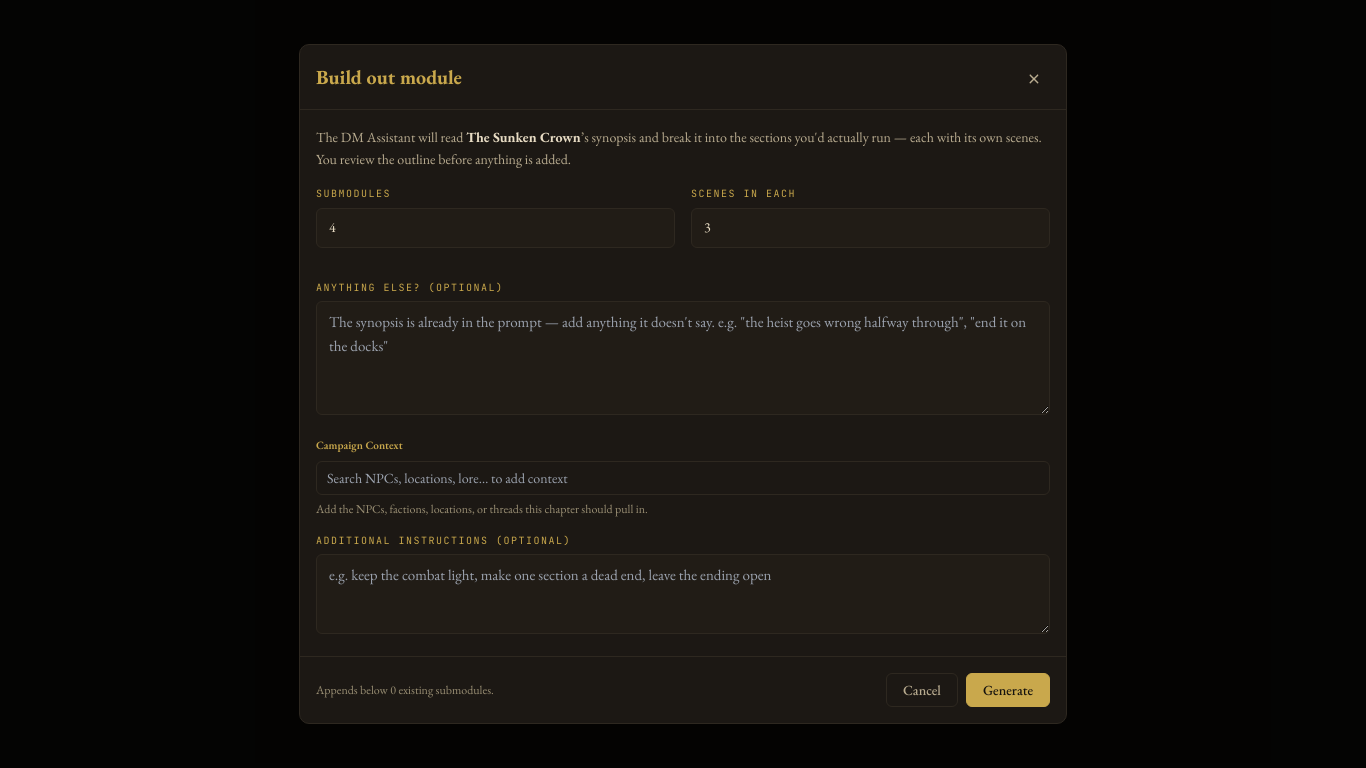
it: GenerateModuleStructureModal › disables saving when everything is unchecked
Step 1. Click the button "Generate" → (1008, 690), box [966,673,1050,707]
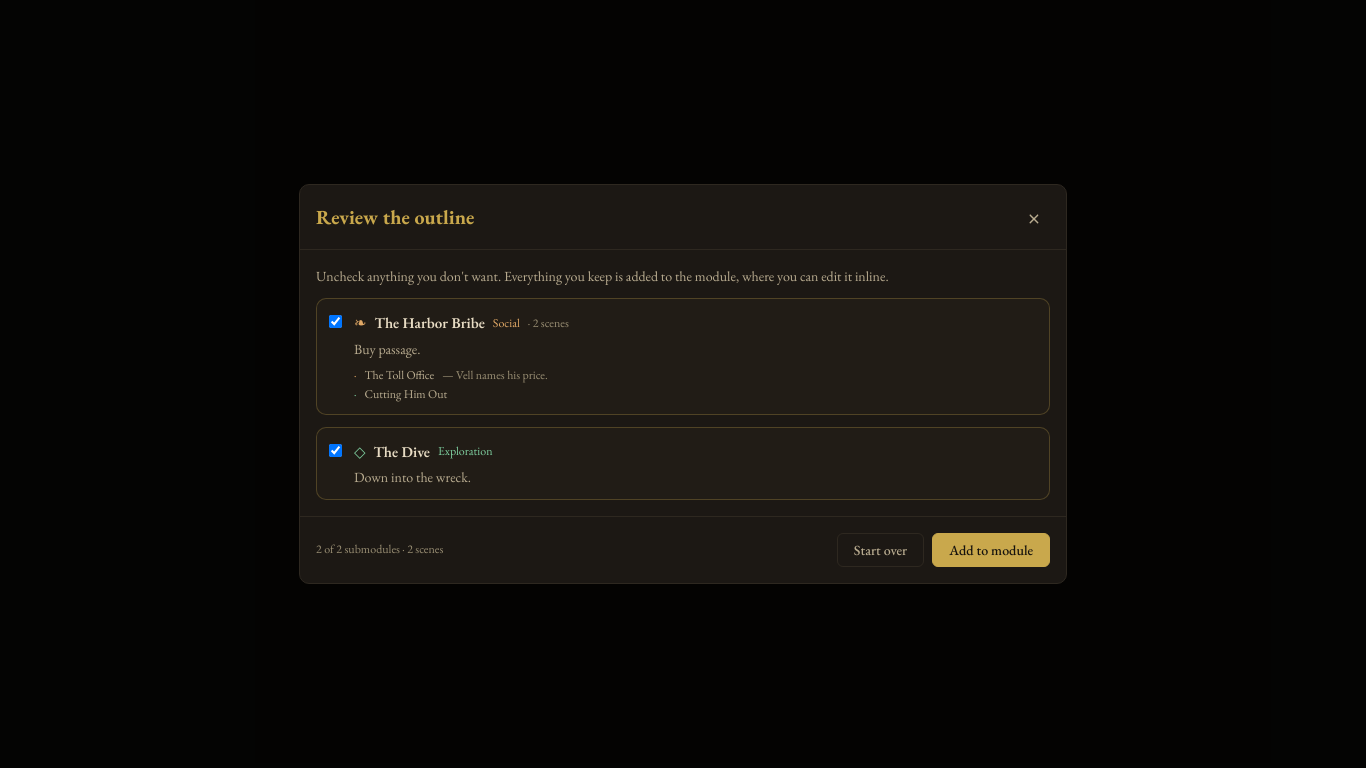
Expected: the text "The Harbor Bribe" is shown, [375,311,485,335]
Step 2. Click the 1st checkbox → (336, 322), box [329,315,342,328]
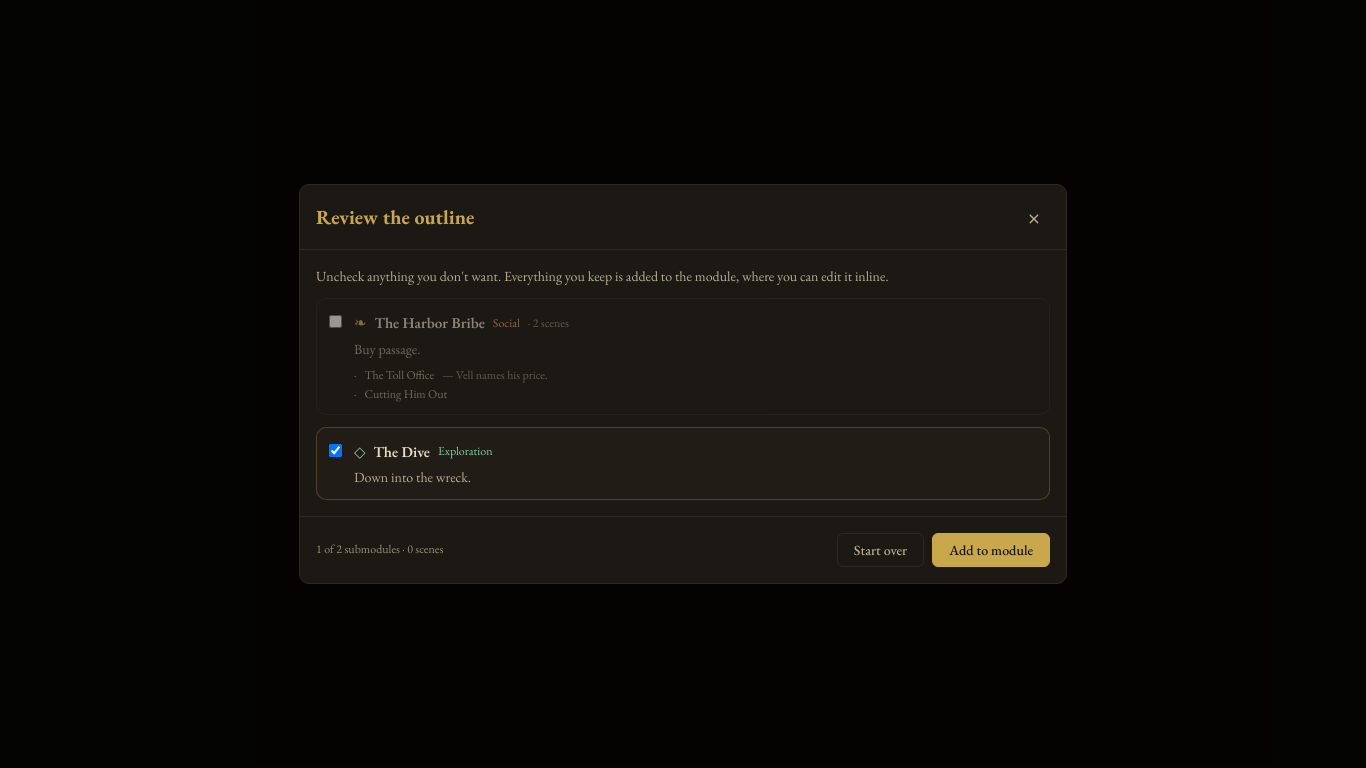
Step 3. Click the checkbox labelled "◇ The Dive Exploration Down into the wreck." → (336, 450), box [329,444,342,456]
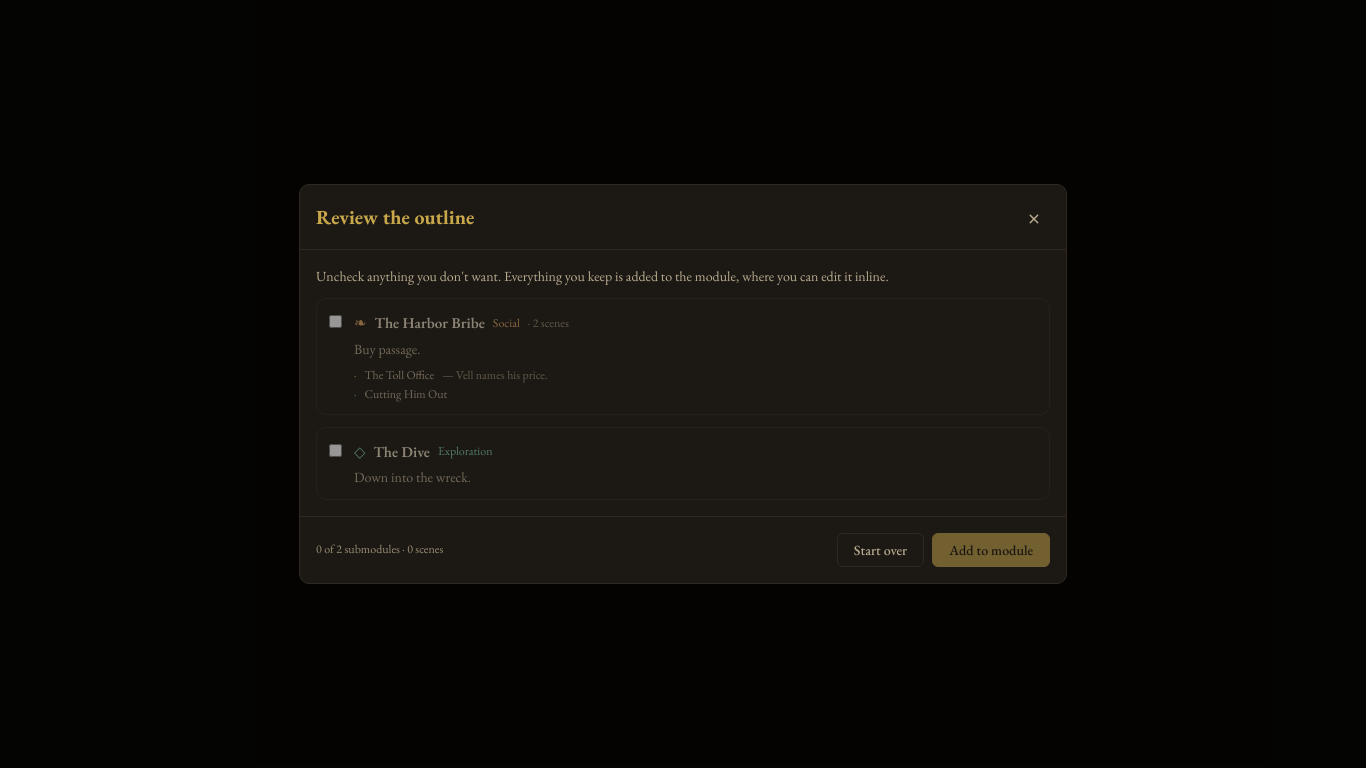
Expected: the button "Add to module" is disabled, [932,533,1050,567]
